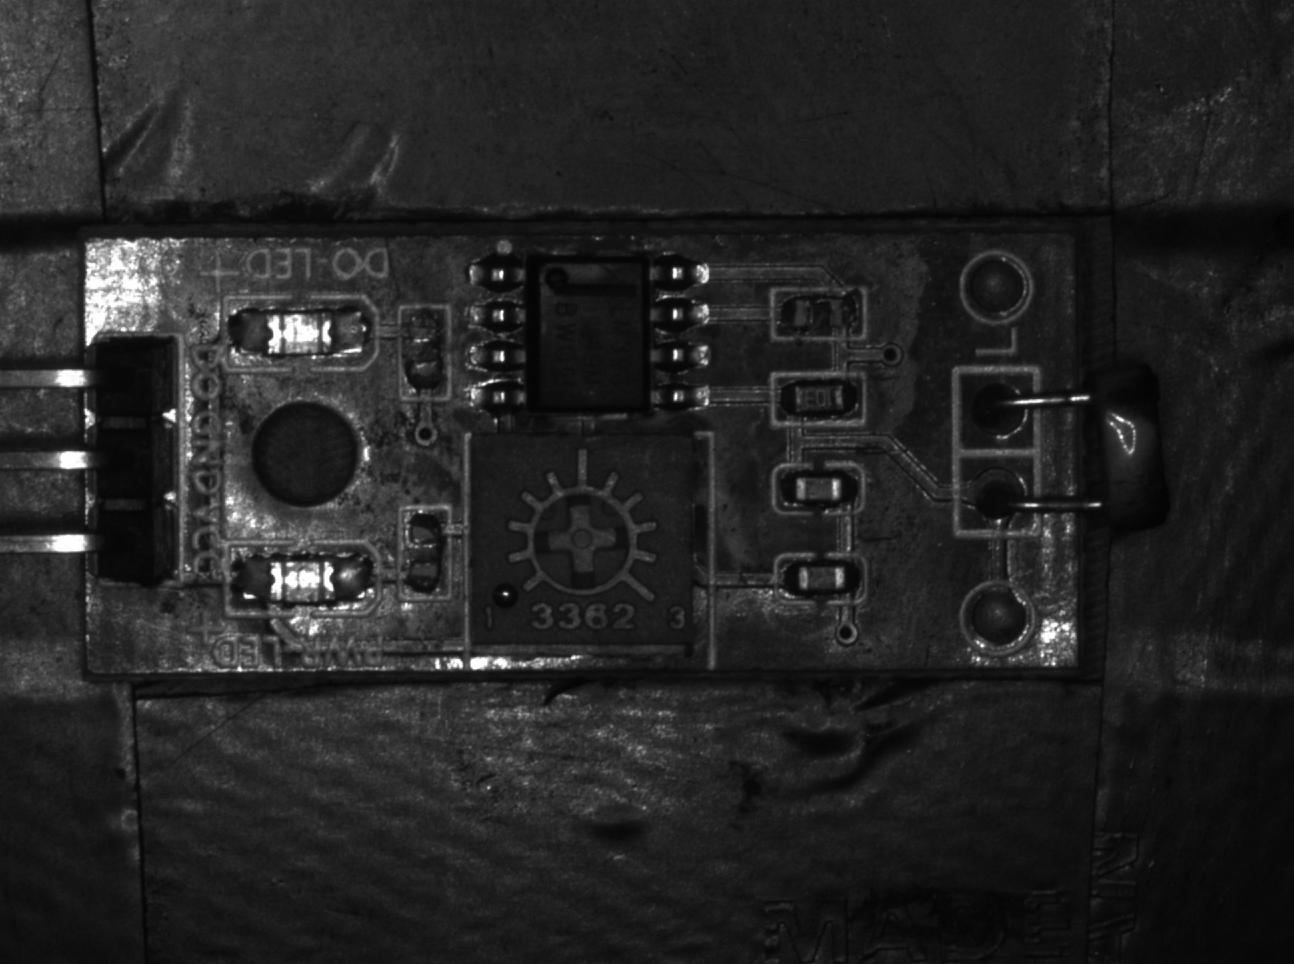miss: (770, 288, 865, 339), (400, 504, 449, 605), (401, 305, 449, 398)
ok: (773, 374, 865, 429), (776, 553, 868, 606), (773, 468, 863, 515)
